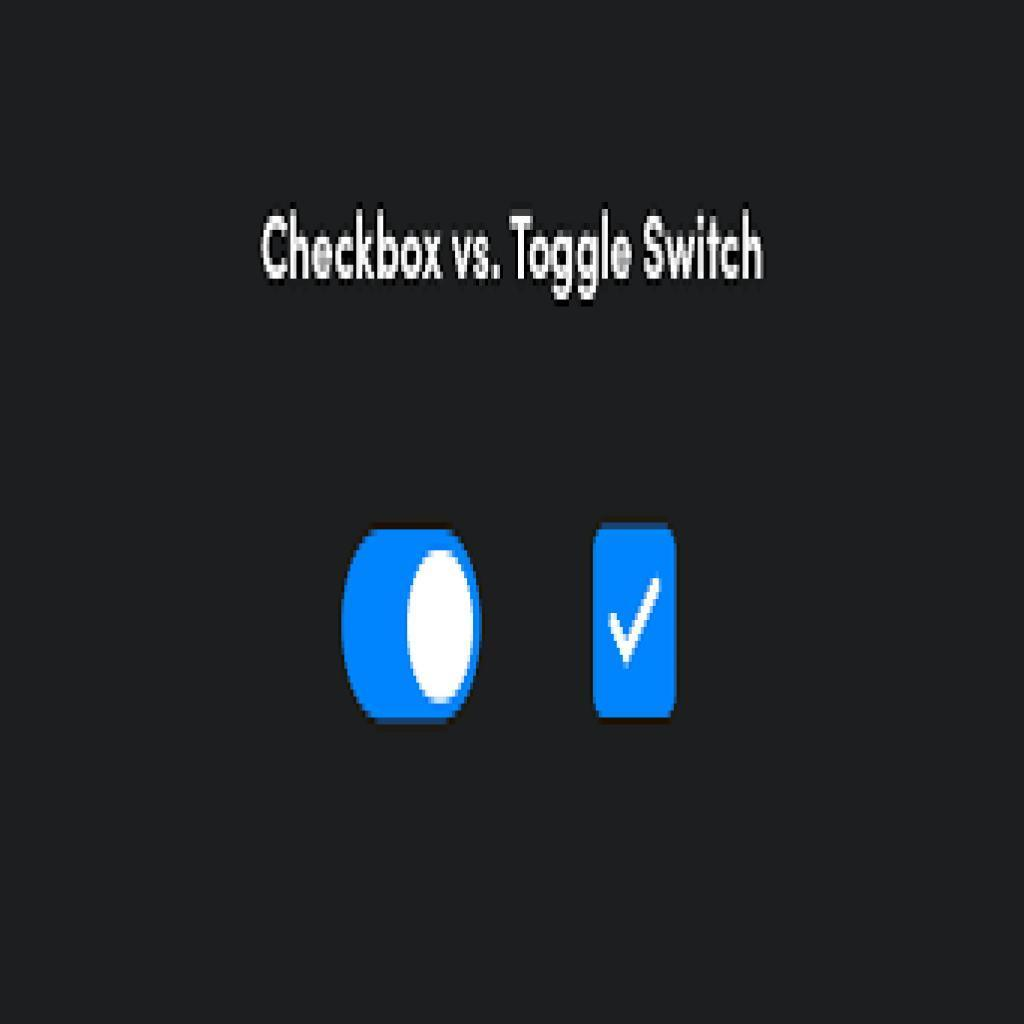checkbox: (593, 527, 676, 720)
switch: (339, 530, 482, 725)
